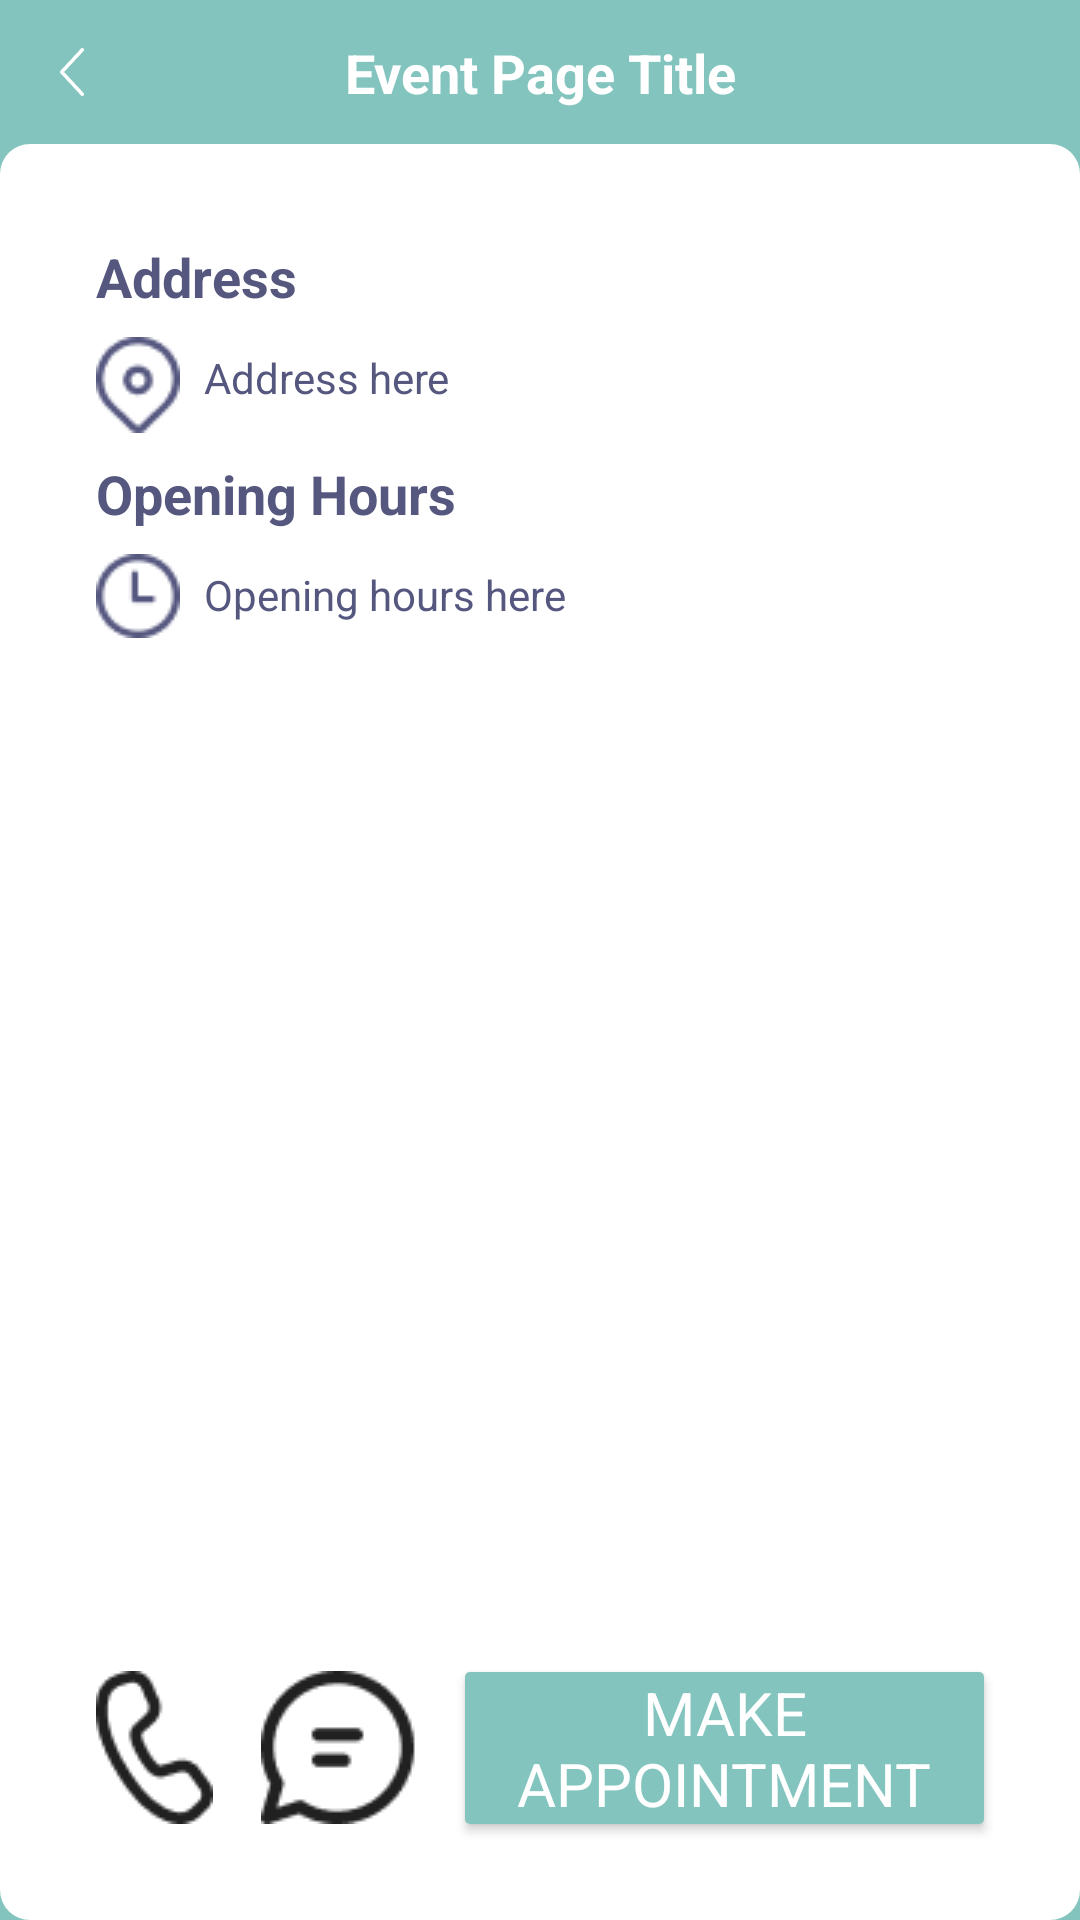

Screen size 1080 × 1920. Icon name, then its center in pixels as (x=x, y=y):
arrow back: (x=72, y=72)
call: (x=154, y=1747)
location: (x=138, y=385)
message: (x=338, y=1747)
time: (x=138, y=596)
